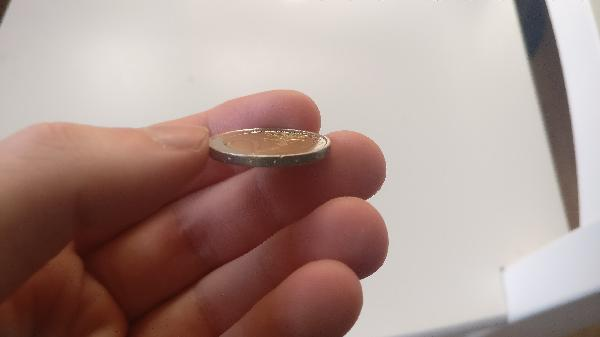Two Euro: (207, 121, 332, 175)
